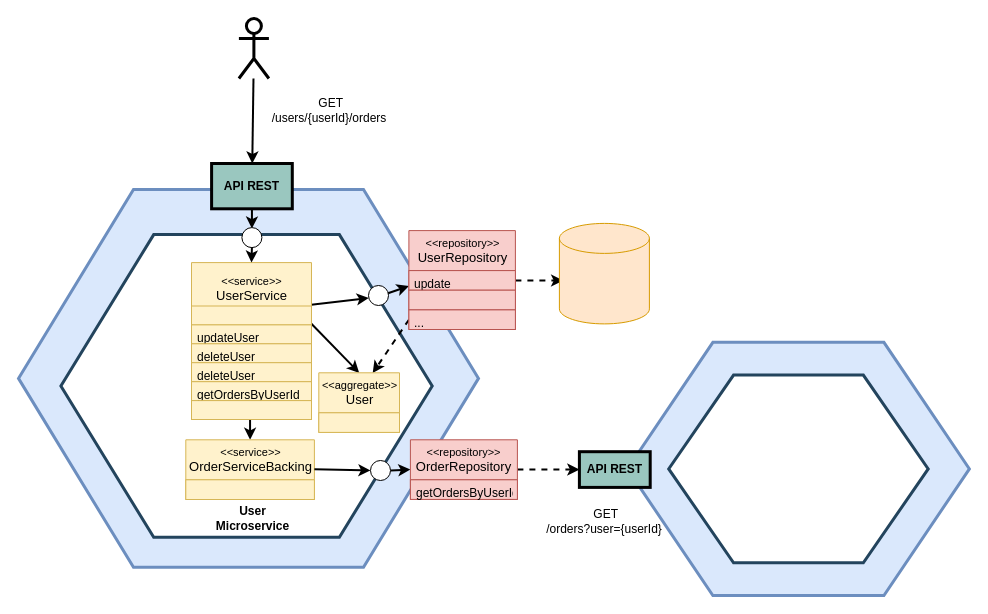
The diagram is 988 pixels wide and 614 high, and some of its shapes have lost their labels. The shapes that lost their labels are listed below. From the top down, each one's centre as x and y in pixels, then its label:
point 603,273: DataBase
point 251,315: createUser
point 461,299: findAll
point 251,410: getAllUsers
point 798,468: Order Microservice
point 249,489: fetchOrdersByUserId
